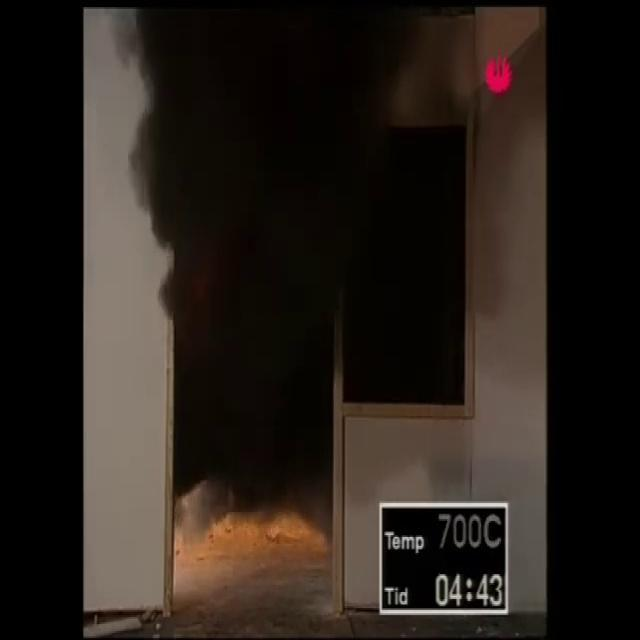Smoke: (146, 18, 424, 381)
